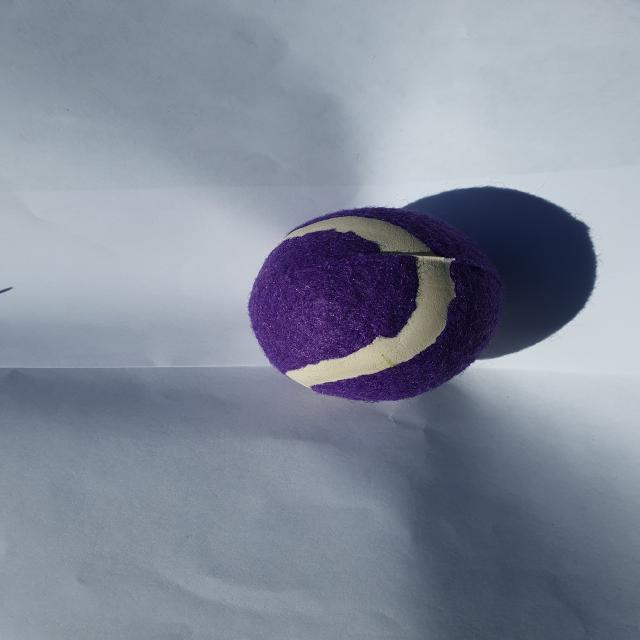purple: (248, 206, 504, 402)
